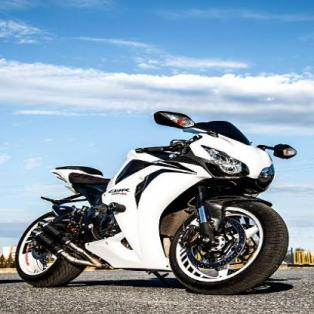Motocicleta: (12, 102, 297, 294)
